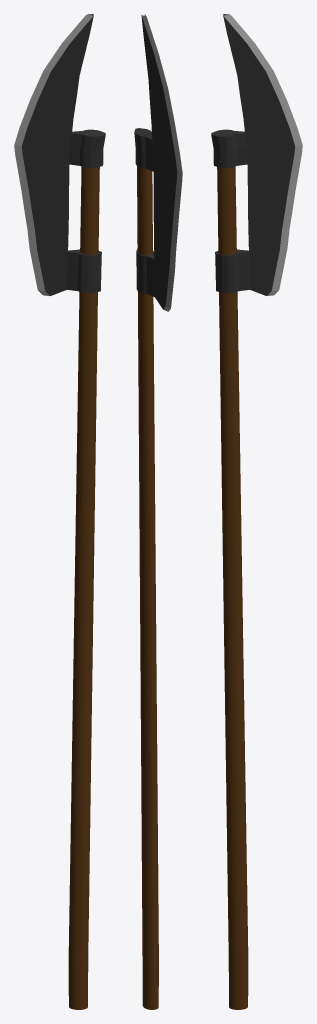
Rendered from hlbr_lt.fbx.
3 renders of one model, left to right at view 1: azimuth 90°, elevation 25°; view 2: azimuth 210°, elevation 25°; view 3: azimuth 270°, elevation 25°, orthographic.
Visible parts, largest first — view 1: Okrąg; view 2: Okrąg; view 3: Okrąg.
Boxes of the visible parts, x1,y1,x2,y2 form: Okrąg: (14, 14, 105, 1009); Okrąg: (134, 14, 182, 1009); Okrąg: (211, 14, 302, 1009).
Bounding box in the file's own units: 18.63 × 1203 × 101.
